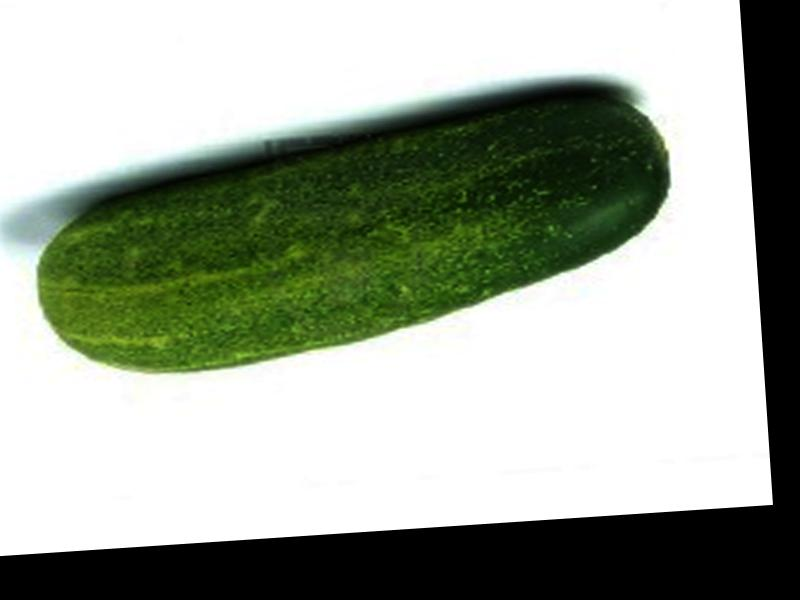Cucumber: (28, 87, 677, 380)
